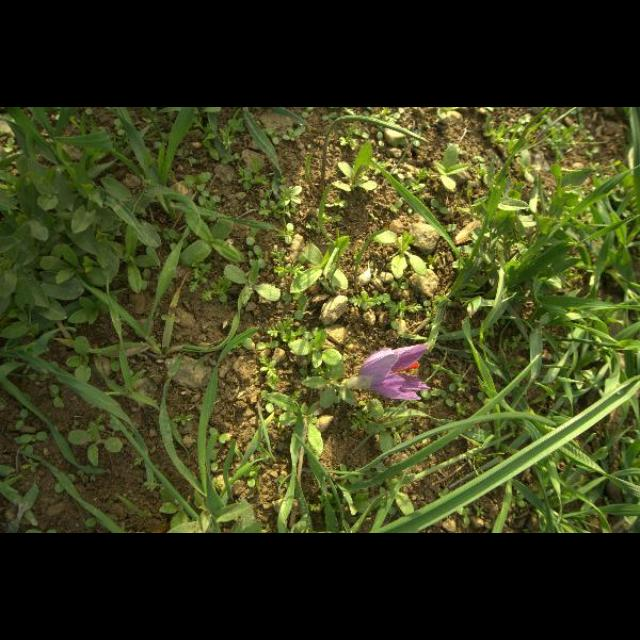flower: (358, 344, 430, 402)
